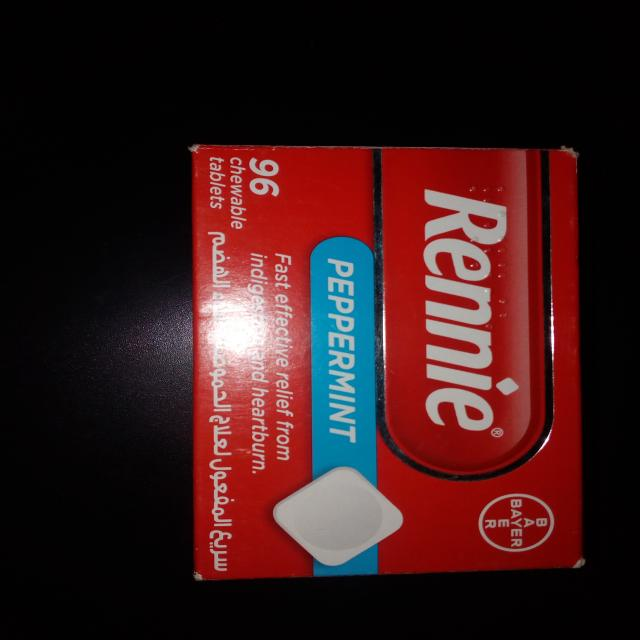Medicine: (175, 136, 598, 583)
